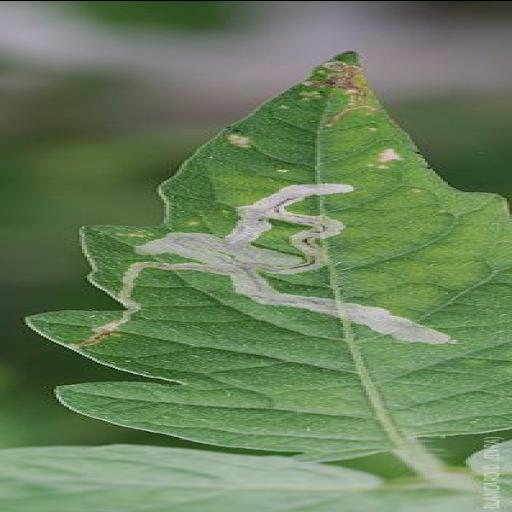Leaf Miner: (24, 48, 512, 458)
